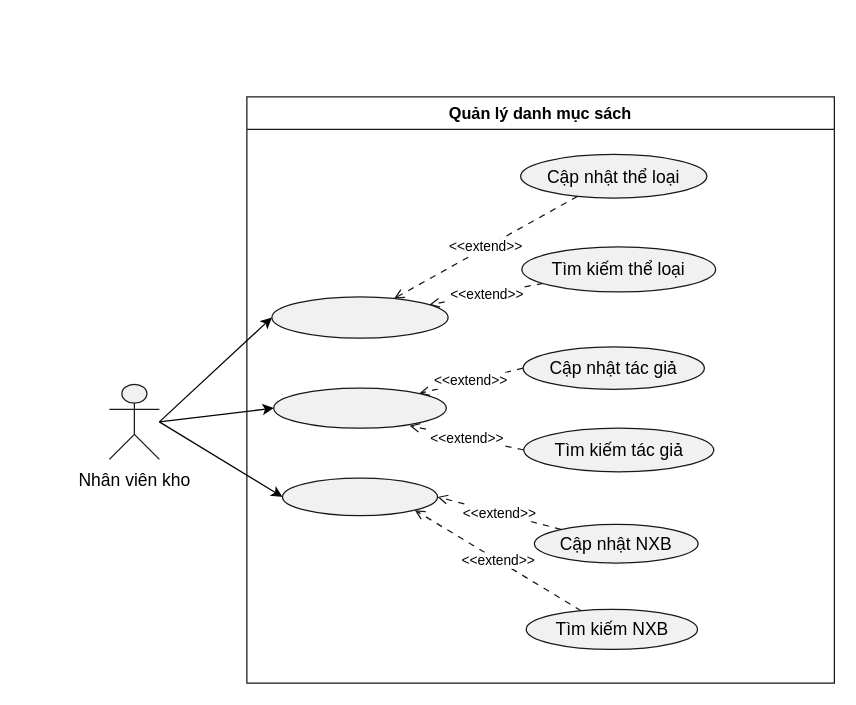
This 856x705 diagram has some shape labels left out. The box of each missing label's shape, as (x1, y1, x2, y2) in pixels:
Quản lý NXB: (281, 477, 438, 516)
Quản lý thể loại: (271, 296, 448, 338)
Quản lý tác giả: (272, 387, 446, 428)
